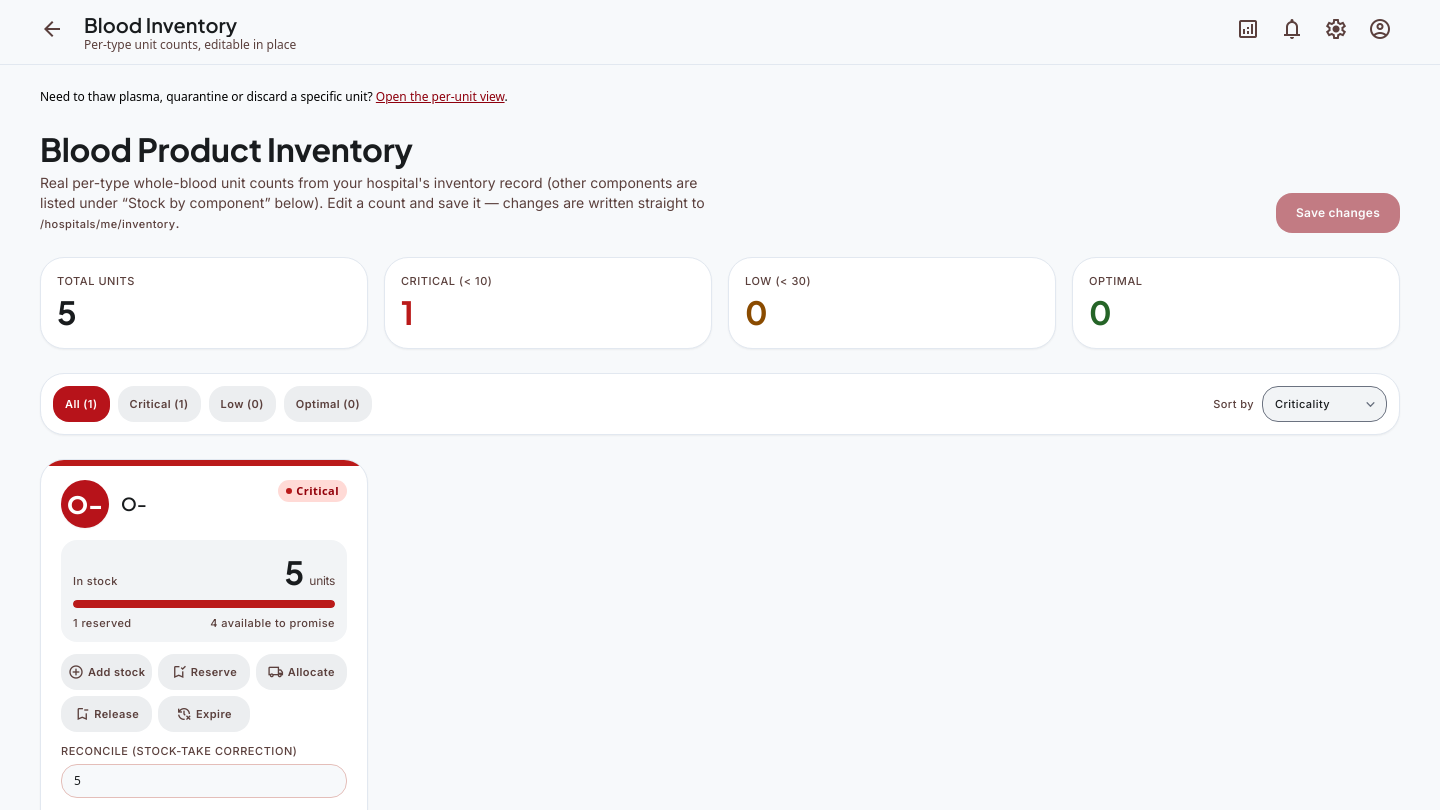
Scenario: InventoryConsole (Phase G) › sends the chosen component with an action from an accessible dialog
This screenshot has width=1440, height=810.
Click the button titled "New stock received — increases units on hand." at (107, 672), box [61,654,152,690]
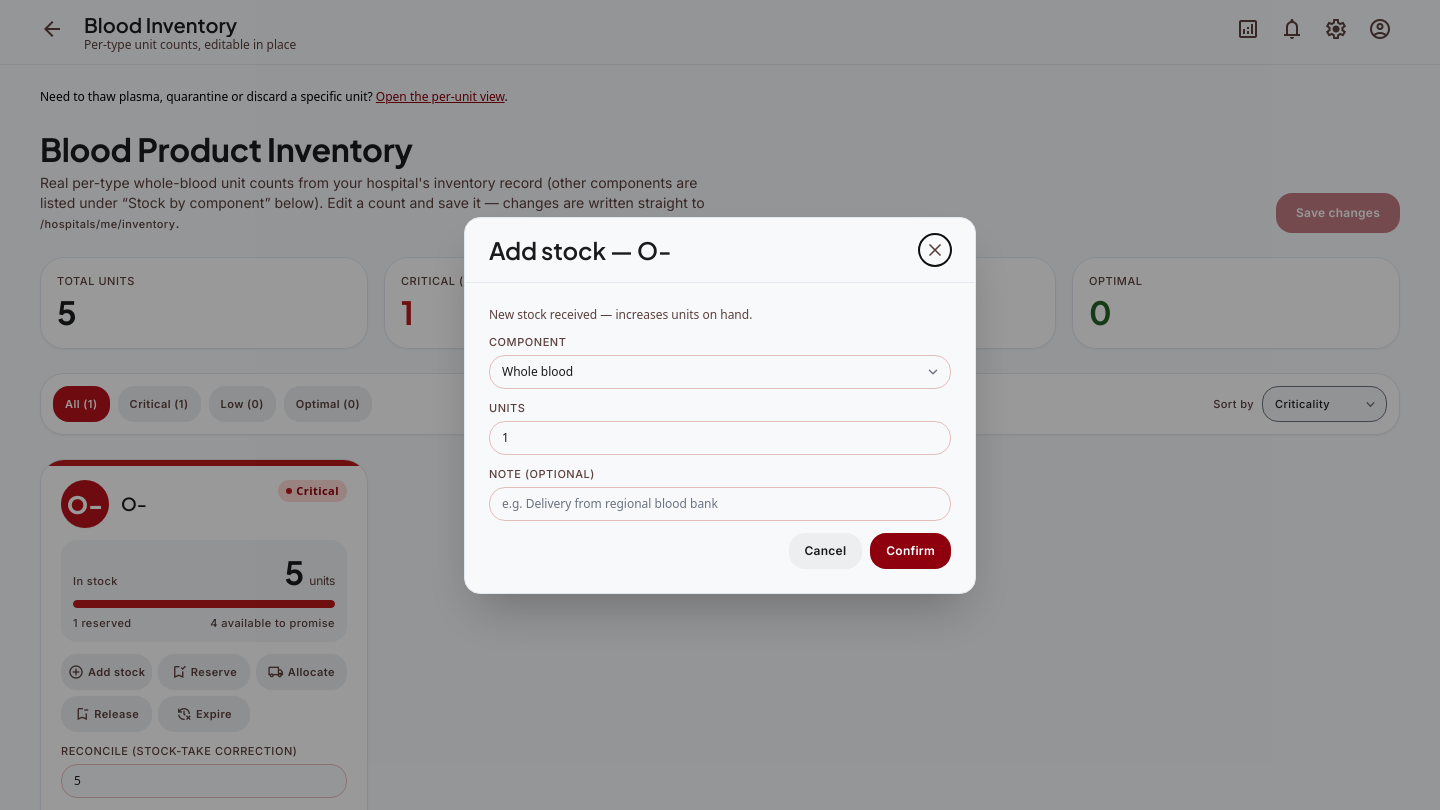
Select "Platelets" in the dropdown labelled "Component" at (720, 372), box [489,354,951,388]
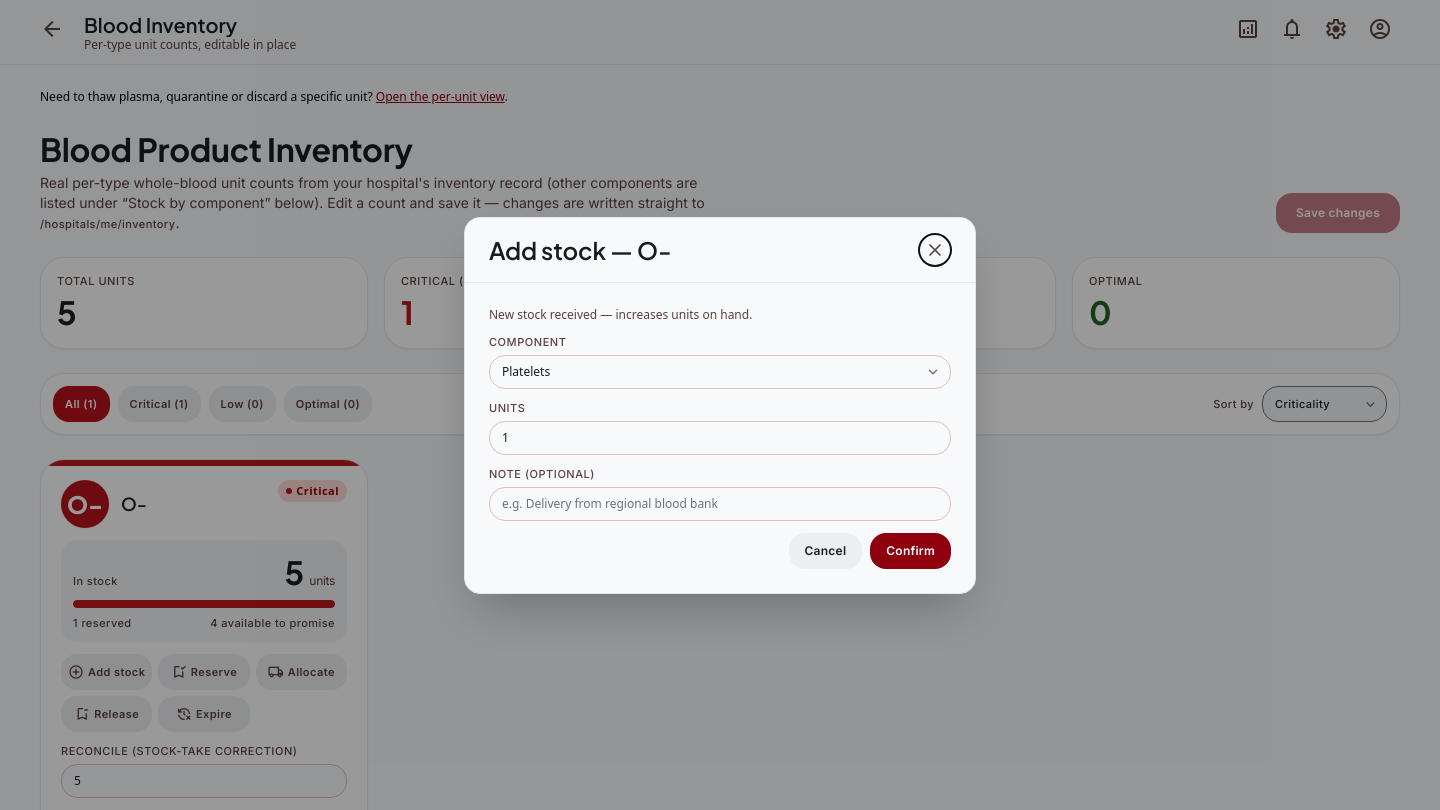
Replace the text in the number field labelled "Units" with "3" at (720, 438), box [489,420,951,454]
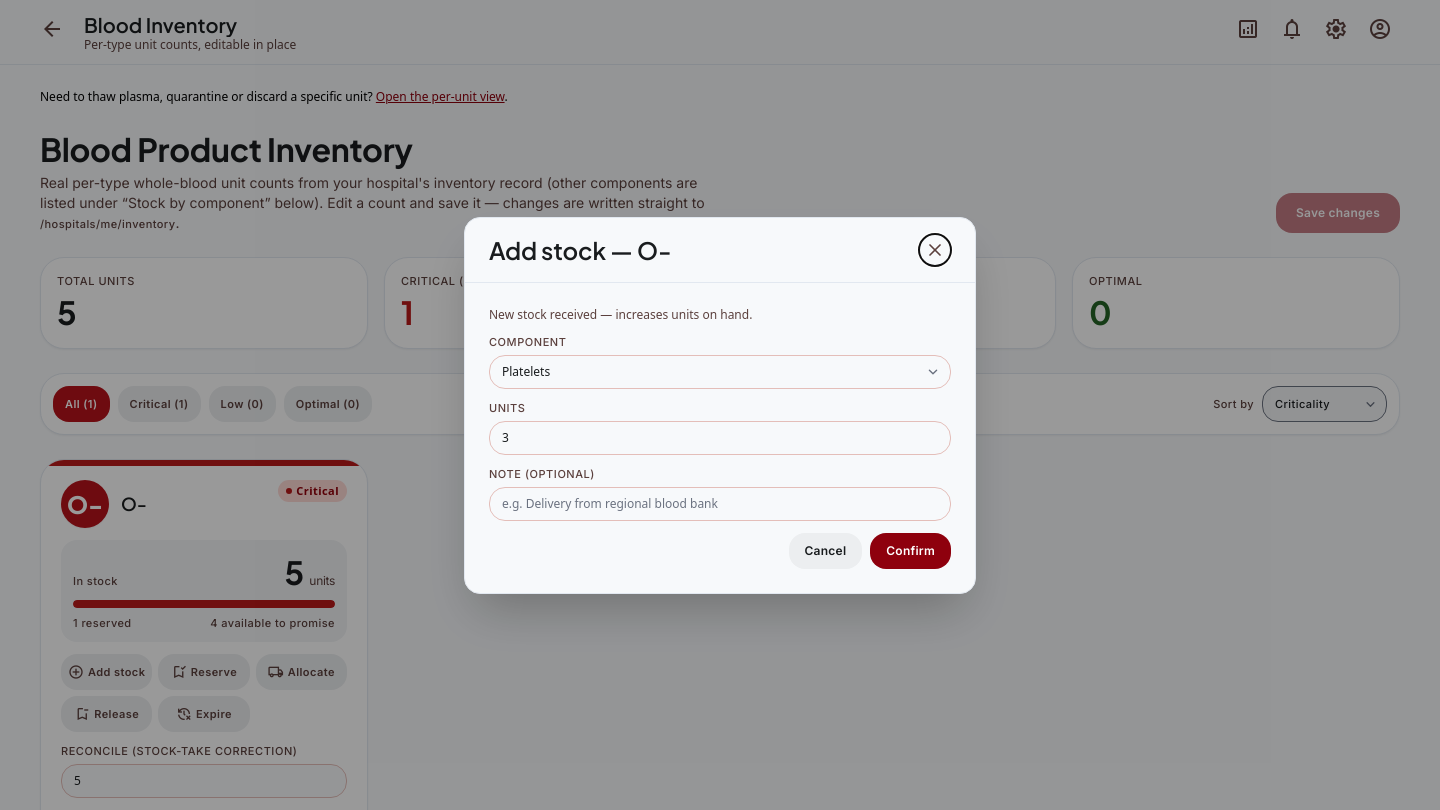
Click the button "Confirm" at (911, 550), box [870,532,951,568]
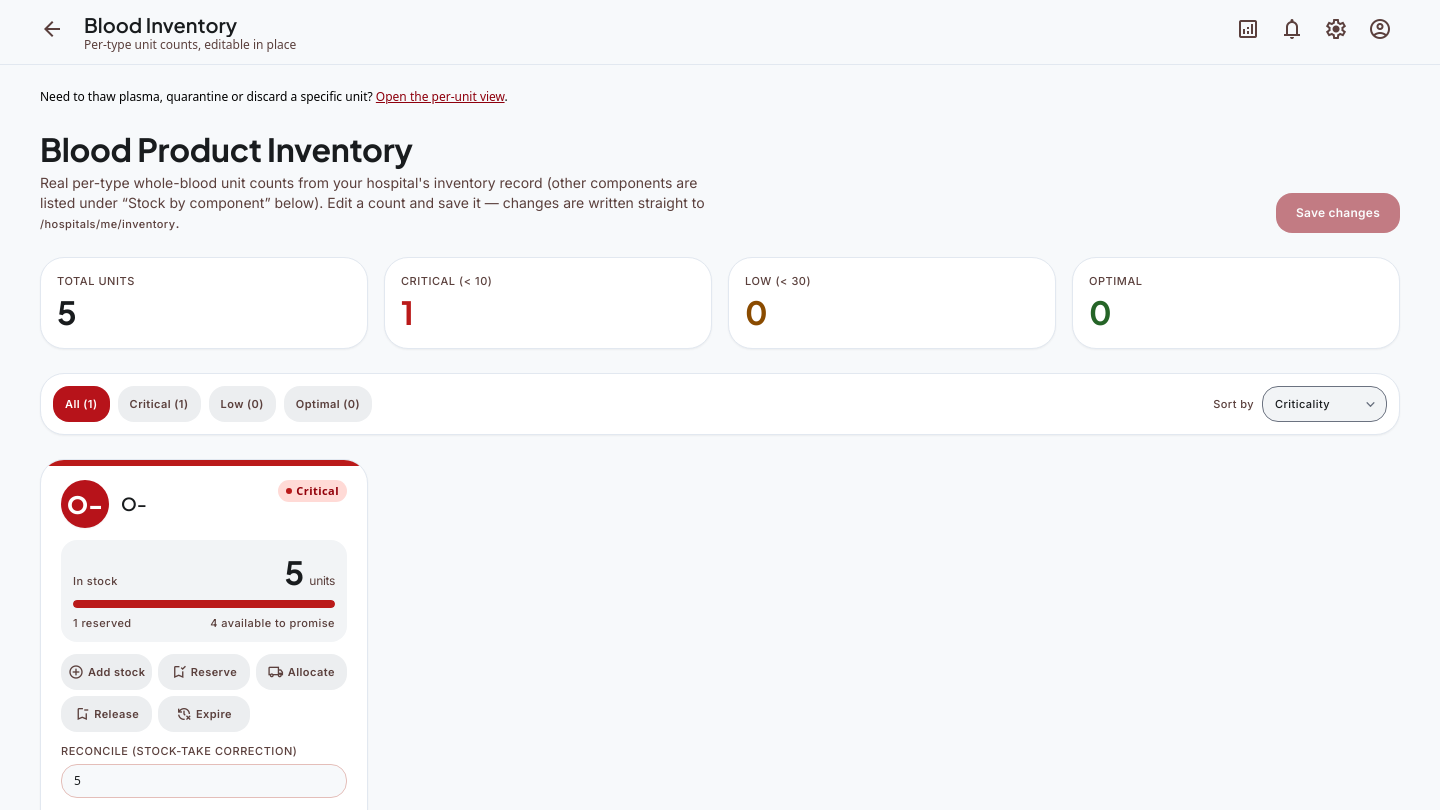
Now the dialog is gone
